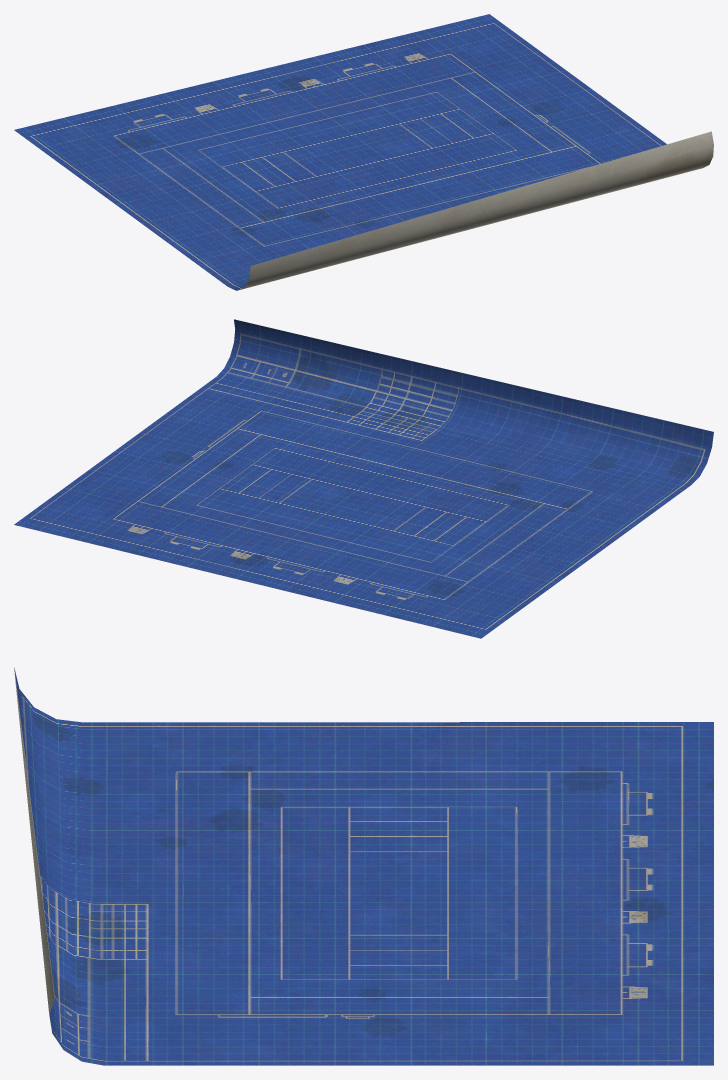
File: Blueprints06.FBX
3 renders of one model, top to bottom at view 1: azimuth 30°, elevation 25°; view 2: azimuth 150°, elevation 25°; view 3: azimuth 270°, elevation 25°, orthographic. The views are drawn at different scales.
Visible parts, largest first — view 1: Blueprint6; view 2: Blueprint6; view 3: Blueprint6.
Boxes of the visible parts, bbox=[...] form: Blueprint6: bbox=[14, 14, 713, 290]; Blueprint6: bbox=[14, 319, 713, 638]; Blueprint6: bbox=[14, 667, 713, 1065].
Size of the model in its own units: 96.79 by 9.03 by 83.46.
